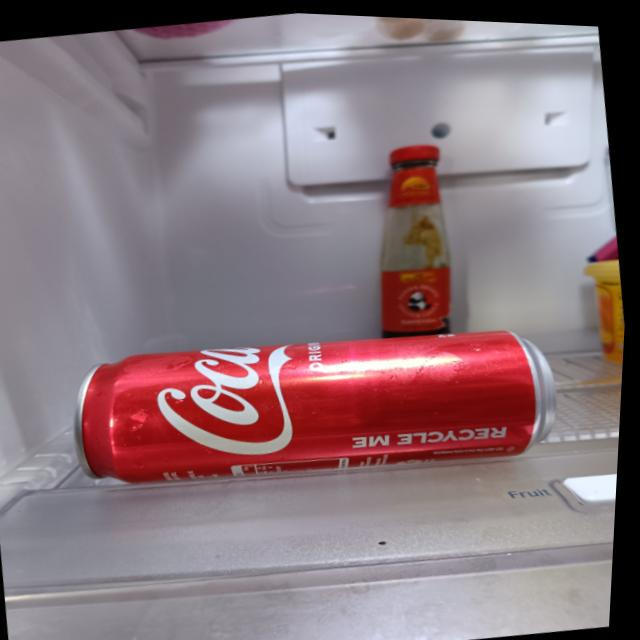coke: (74, 300, 570, 510)
